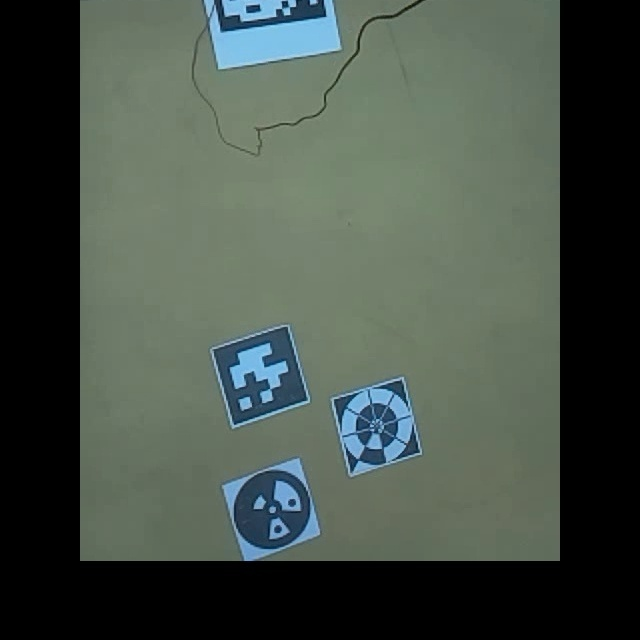landing-zone: (330, 370, 424, 479)
